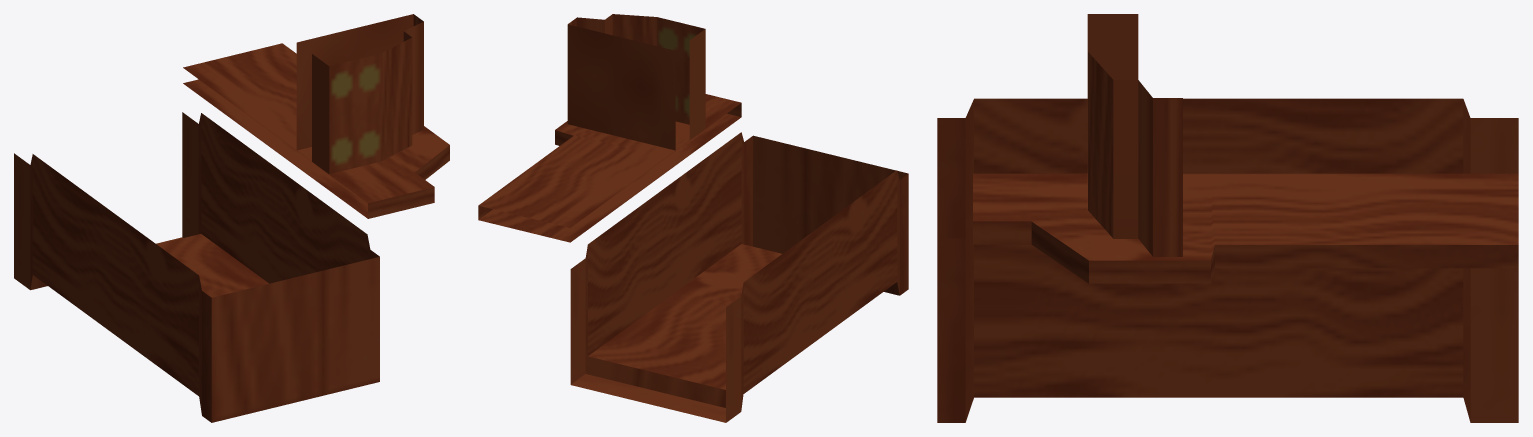
The picture shows the model from 3 angles, left to right: view 1: azimuth 30°, elevation 25°; view 2: azimuth 150°, elevation 25°; view 3: azimuth 270°, elevation 25°; orthographic projection. The views are drawn at different scales.
Size of the model in its own units: 0.9558 by 0.8763 by 1.13.
Materials: 1 (1 with a texture image).
